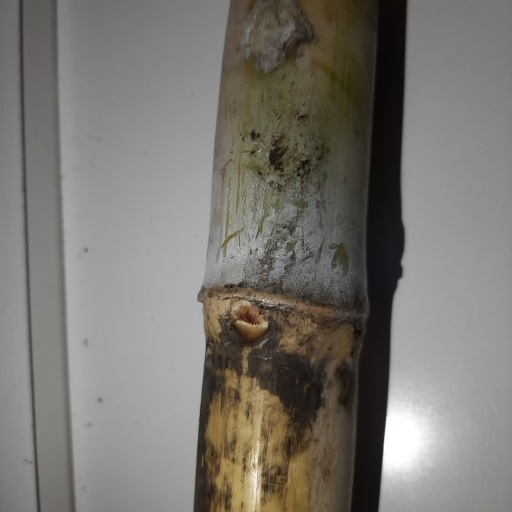Damage_Bud: (229, 299, 267, 342)
